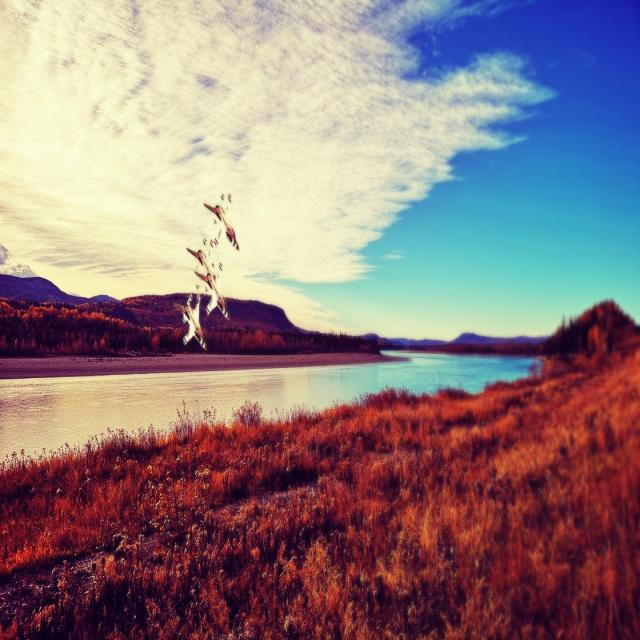airplane: (186, 242, 228, 318), (202, 191, 240, 251), (182, 294, 205, 348)
